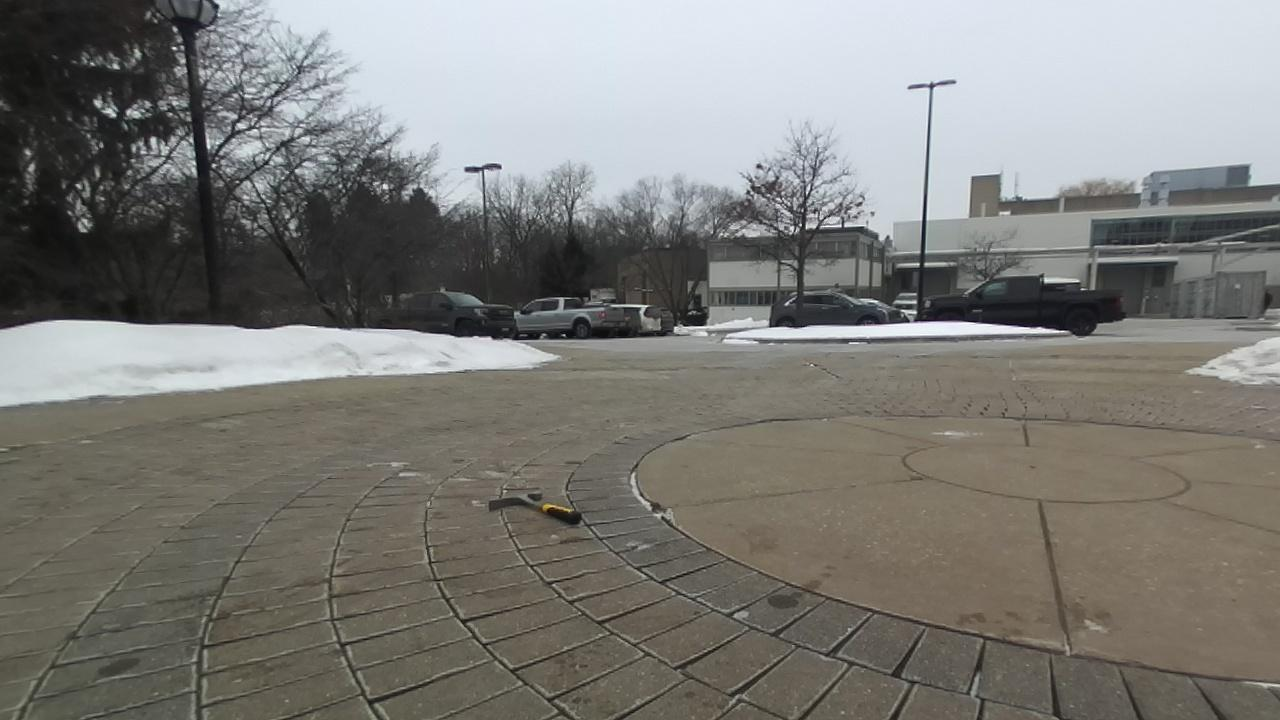pick: (490, 492, 581, 524)
